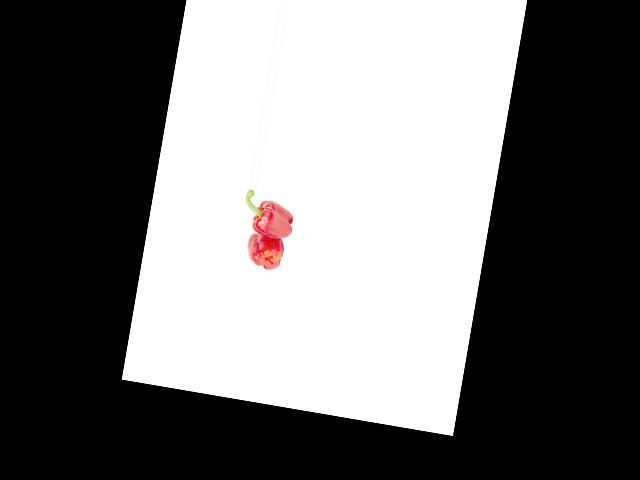bell_pepper: (241, 231, 287, 272)
